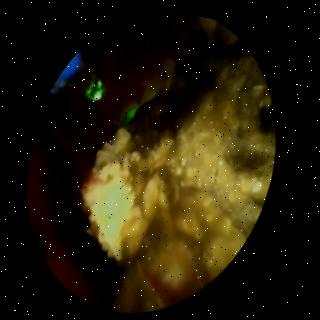laser: (87, 76, 103, 98), (126, 105, 140, 118)
stone: (86, 13, 272, 307)
